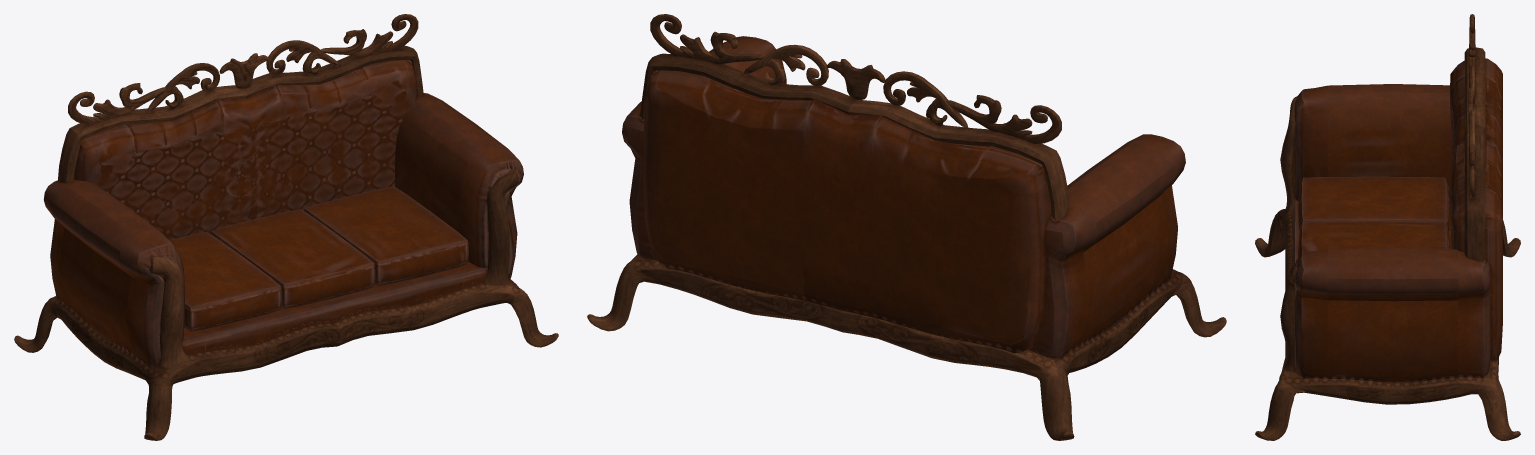
File: sofa 3.glb
3 renders of one model, left to right at view 1: azimuth 30°, elevation 25°; view 2: azimuth 150°, elevation 25°; view 3: azimuth 270°, elevation 25°, orthographic. The views are drawn at different scales.
Visible parts, largest first — view 1: europe_style_sofa_low; view 2: europe_style_sofa_low; view 3: europe_style_sofa_low.
Boxes of the visible parts, x1=… form: europe_style_sofa_low: x1=14, y1=14, x2=558, y2=440; europe_style_sofa_low: x1=587, y1=14, x2=1226, y2=440; europe_style_sofa_low: x1=1255, y1=14, x2=1520, y2=440.
Size of the model in its own units: 1218 by 740 by 696.
Materials: 1 (1 with a texture image).
